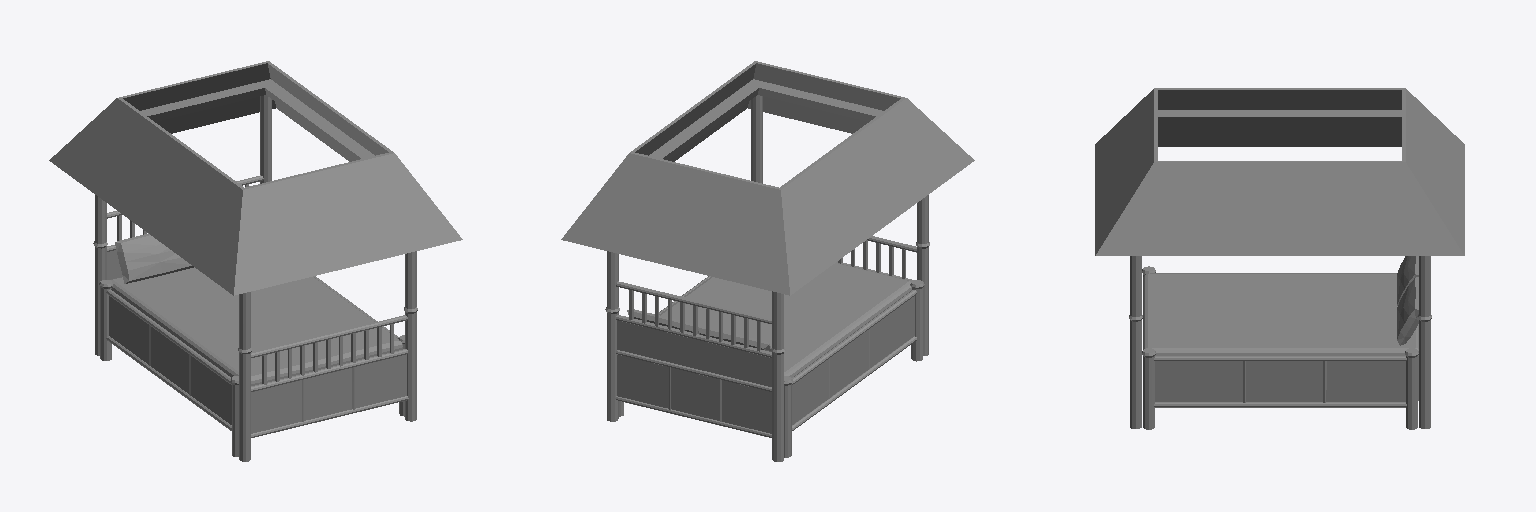
Rendered from KidsJng_Bed_Wd_LtBrown_002.obj.
3 views of the same model, side by side, from view 1: azimuth 30°, elevation 25°; view 2: azimuth 150°, elevation 25°; view 3: azimuth 270°, elevation 25° (orthographic).
Parts seen in each view (by area): view 1: KidsJng_Bed_Wd_LtBrown_002_LOD0; view 2: KidsJng_Bed_Wd_LtBrown_002_LOD0; view 3: KidsJng_Bed_Wd_LtBrown_002_LOD0.
Boxes of the visible parts, <box> form: KidsJng_Bed_Wd_LtBrown_002_LOD0: <box>49,61,462,461</box>; KidsJng_Bed_Wd_LtBrown_002_LOD0: <box>561,61,974,461</box>; KidsJng_Bed_Wd_LtBrown_002_LOD0: <box>1095,88,1464,429</box>.
Bounding box in the file's own units: 1.87 × 2.03 × 2.6.